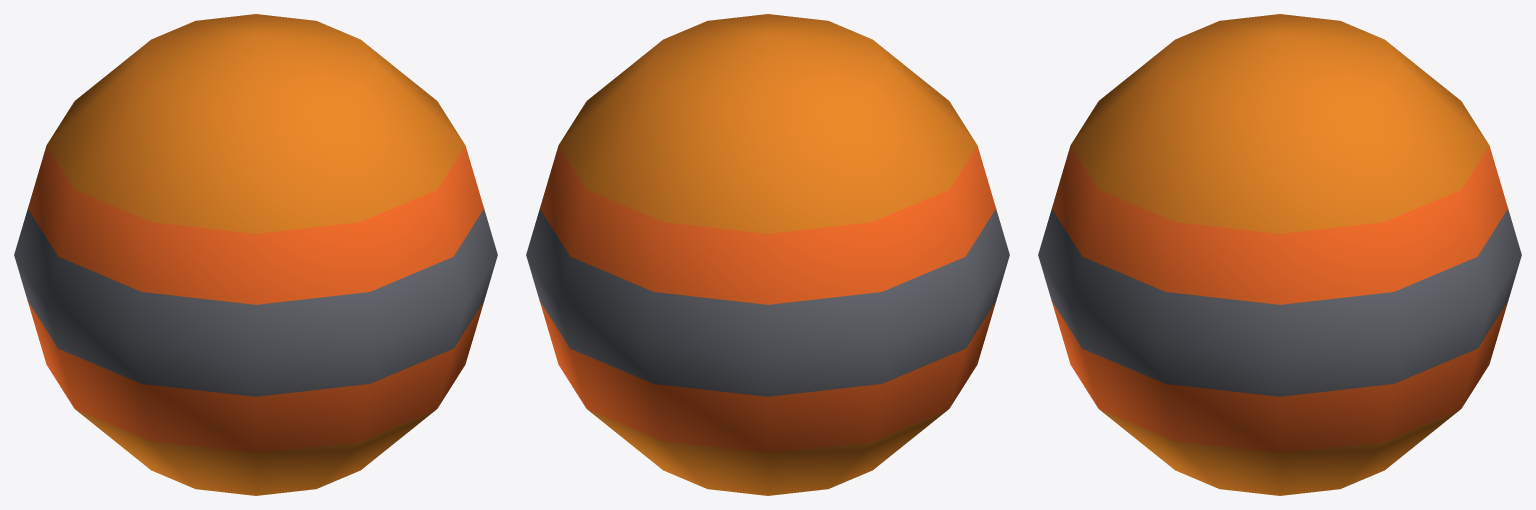
Rendered from Char_HAL_Ball_Main.FBX.
3 renders of one model, left to right at view 1: azimuth 30°, elevation 25°; view 2: azimuth 150°, elevation 25°; view 3: azimuth 270°, elevation 25°, orthographic.
Parts seen in each view (by area): view 1: Sphere001; view 2: Sphere001; view 3: Sphere001.
Boxes of the visible parts, x1=… form: Sphere001: x1=14, y1=14, x2=497, y2=495; Sphere001: x1=526, y1=14, x2=1009, y2=495; Sphere001: x1=1038, y1=14, x2=1521, y2=495.
Bounding box in the file's own units: 8.63 × 8.63 × 8.63.
